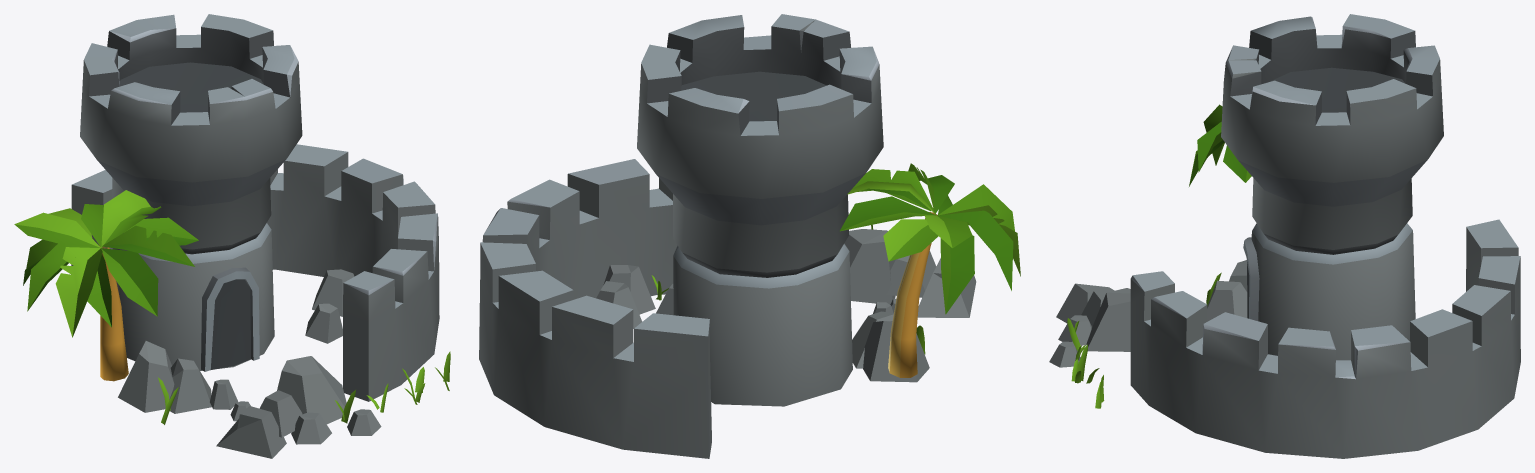
The model's file is Fortress_Castle_02.fbx.
3 views of the same model, side by side, from view 1: azimuth 30°, elevation 25°; view 2: azimuth 150°, elevation 25°; view 3: azimuth 270°, elevation 25° (orthographic). The views are drawn at different scales.
Visible parts, largest first — view 1: Color_03, Color_10, Color_09, Color_08, Color_01, Color_02, Color_07, Color_05; view 2: Color_03, Color_10, Color_09, Color_08, Color_02, Color_07; view 3: Color_03, Color_10, Color_08, Color_09, Color_02, Color_01, Color_05.
Boxes of the visible parts, x1,y1,x2,y2 form: Color_03: (80, 14, 302, 370); Color_10: (71, 144, 439, 401); Color_09: (14, 190, 198, 381); Color_08: (216, 356, 381, 458); Color_01: (201, 267, 259, 371); Color_02: (118, 341, 250, 421); Color_07: (305, 269, 354, 343); Color_05: (335, 351, 450, 423); Color_03: (637, 14, 883, 406); Color_10: (479, 159, 711, 458); Color_09: (840, 163, 1020, 377); Color_08: (844, 229, 976, 317); Color_02: (852, 298, 929, 382); Color_07: (596, 265, 673, 328); Color_03: (1221, 14, 1443, 360); Color_10: (1130, 219, 1520, 458); Color_08: (1049, 283, 1130, 367); Color_09: (1189, 104, 1251, 186); Color_02: (1207, 260, 1247, 321); Color_01: (1243, 237, 1259, 320); Color_05: (1067, 318, 1104, 408).
Bounding box in the file's own units: 42.38 × 28.67 × 40.87.
Materials: 1 (1 with a texture image).
